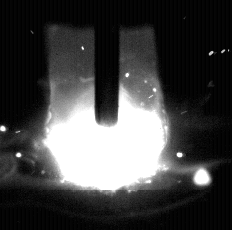arame: (96, 0, 120, 127)
poca: (44, 0, 167, 230)
